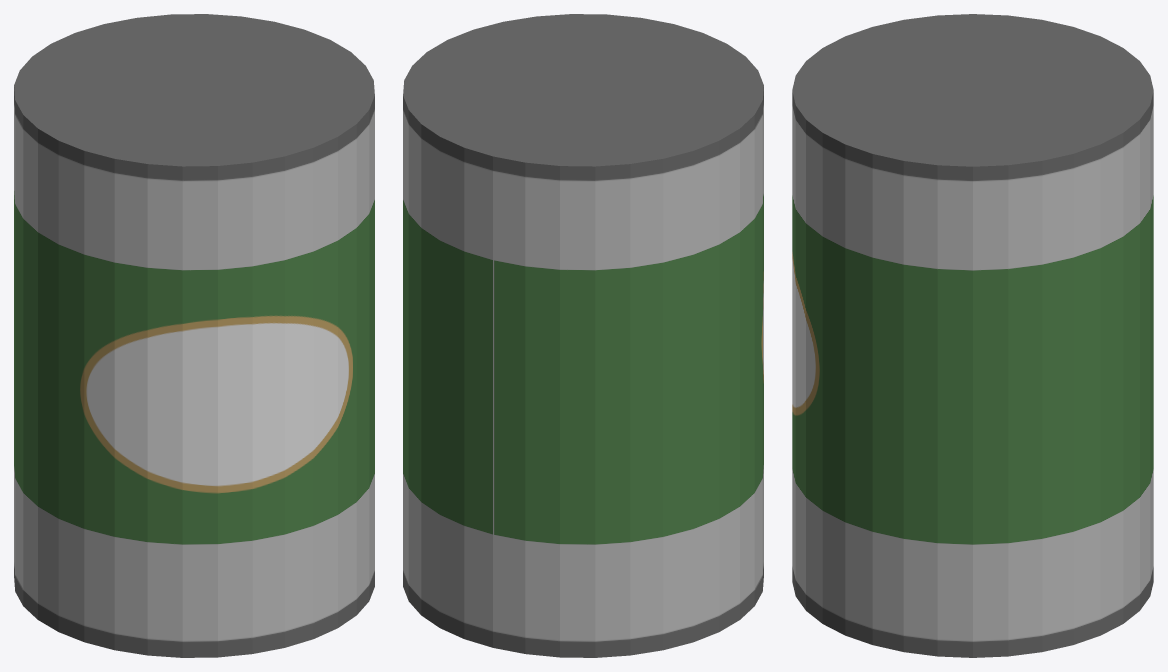
File: can_2.glb
3 views of the same model, side by side, from view 1: azimuth 30°, elevation 25°; view 2: azimuth 150°, elevation 25°; view 3: azimuth 270°, elevation 25° (orthographic).
Visible parts, largest first — view 1: Cylinder; view 2: Cylinder; view 3: Cylinder.
Boxes of the visible parts, left/top/right/bottom form: Cylinder: left=14, top=14, right=374, bottom=657; Cylinder: left=403, top=14, right=763, bottom=657; Cylinder: left=792, top=14, right=1153, bottom=657.
Bounding box in the file's own units: 0.089 × 0.1334 × 0.089.
1 material, 1 textured.
